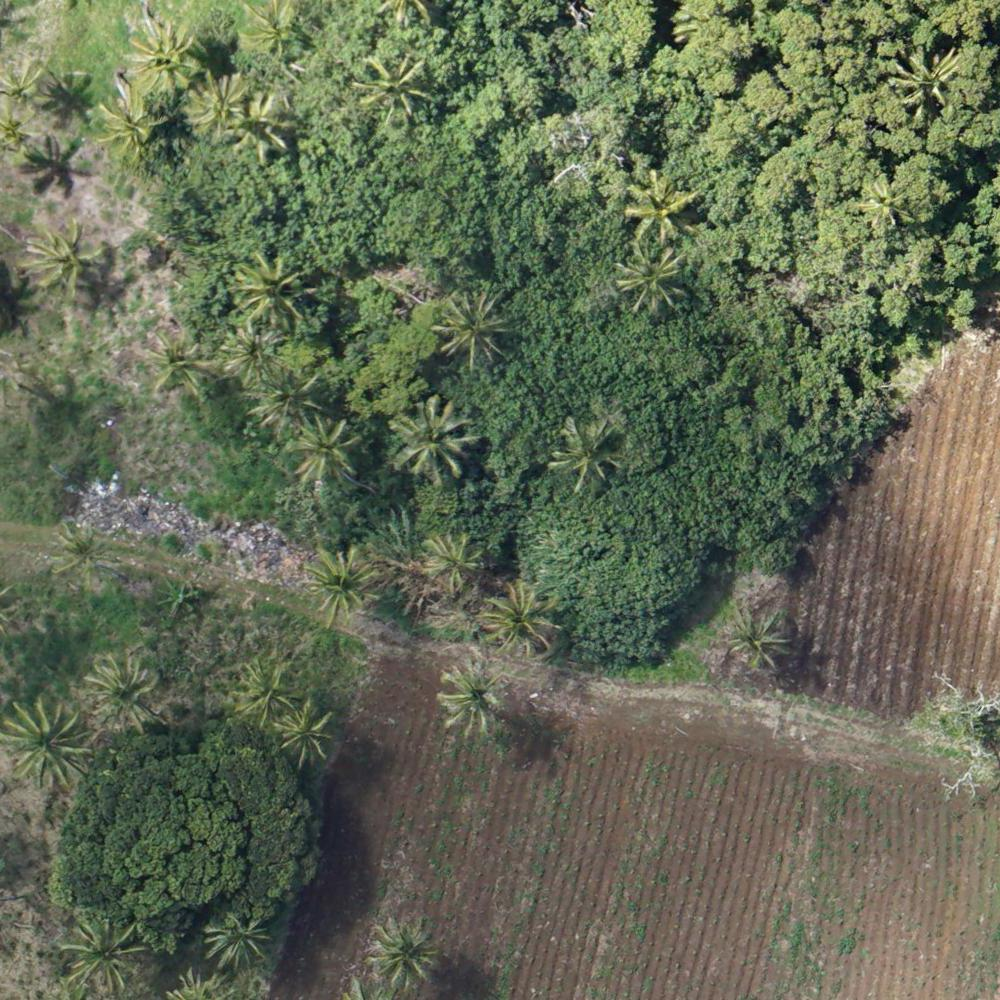Palm: (1, 698, 100, 794), (389, 396, 474, 484), (86, 650, 167, 735), (63, 917, 150, 990), (89, 86, 166, 163), (351, 52, 433, 123), (228, 254, 312, 323), (297, 544, 379, 614), (619, 169, 696, 243), (480, 578, 556, 652), (438, 289, 518, 358), (288, 412, 367, 481), (438, 663, 515, 733), (25, 223, 102, 293), (248, 365, 328, 431), (552, 417, 626, 488), (129, 22, 201, 93), (716, 600, 791, 667), (366, 917, 438, 985), (891, 46, 963, 113), (614, 245, 683, 314), (141, 327, 211, 395), (189, 63, 256, 131), (232, 94, 298, 162), (230, 660, 297, 726), (203, 906, 269, 971), (233, 1, 301, 62), (275, 702, 336, 768), (220, 325, 292, 379), (852, 174, 917, 228), (422, 530, 482, 588)
